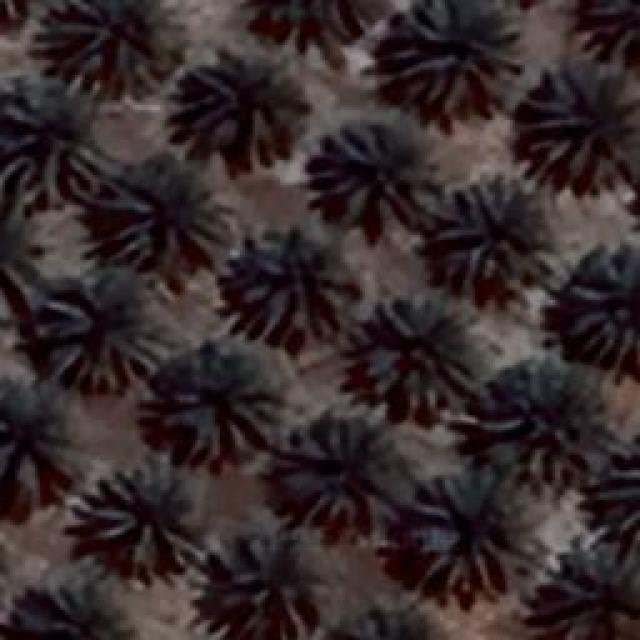PalmTree: (120, 35, 606, 489), (68, 112, 386, 623), (230, 212, 360, 346), (178, 35, 310, 163), (280, 410, 415, 525), (32, 280, 172, 390), (415, 467, 535, 595), (310, 113, 440, 230), (480, 360, 600, 485), (100, 150, 232, 262), (520, 60, 638, 185), (388, 0, 522, 110), (362, 290, 482, 410), (90, 452, 202, 578), (170, 338, 282, 460), (0, 72, 102, 205), (434, 175, 548, 285), (215, 524, 320, 638), (47, 0, 165, 88), (538, 542, 638, 638), (0, 378, 80, 492), (562, 245, 636, 368), (7, 574, 135, 638), (244, 0, 382, 54), (0, 200, 36, 324), (572, 0, 640, 54), (0, 0, 41, 25), (0, 1, 41, 23)
